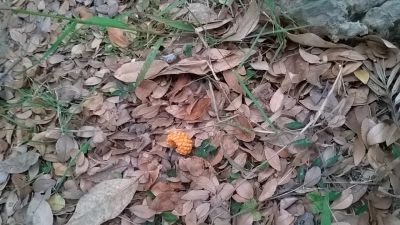eggs: (164, 130, 193, 156)
